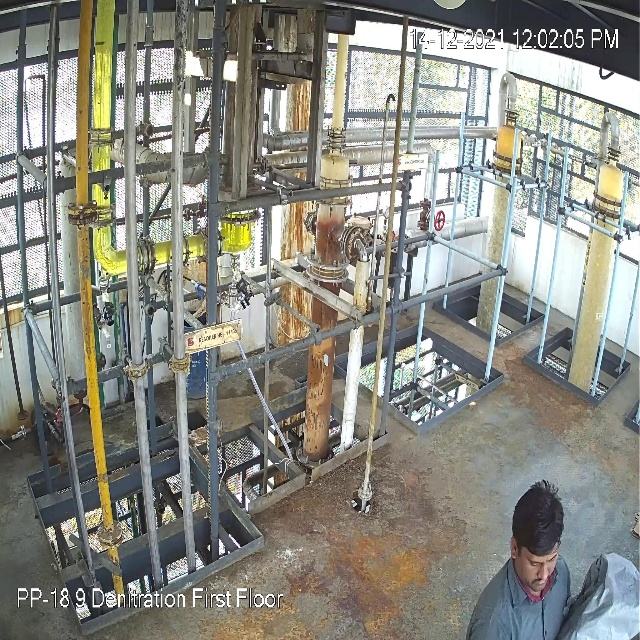Sin_gafas: (524, 554, 558, 569)
Sin_mascara: (526, 568, 554, 590)
